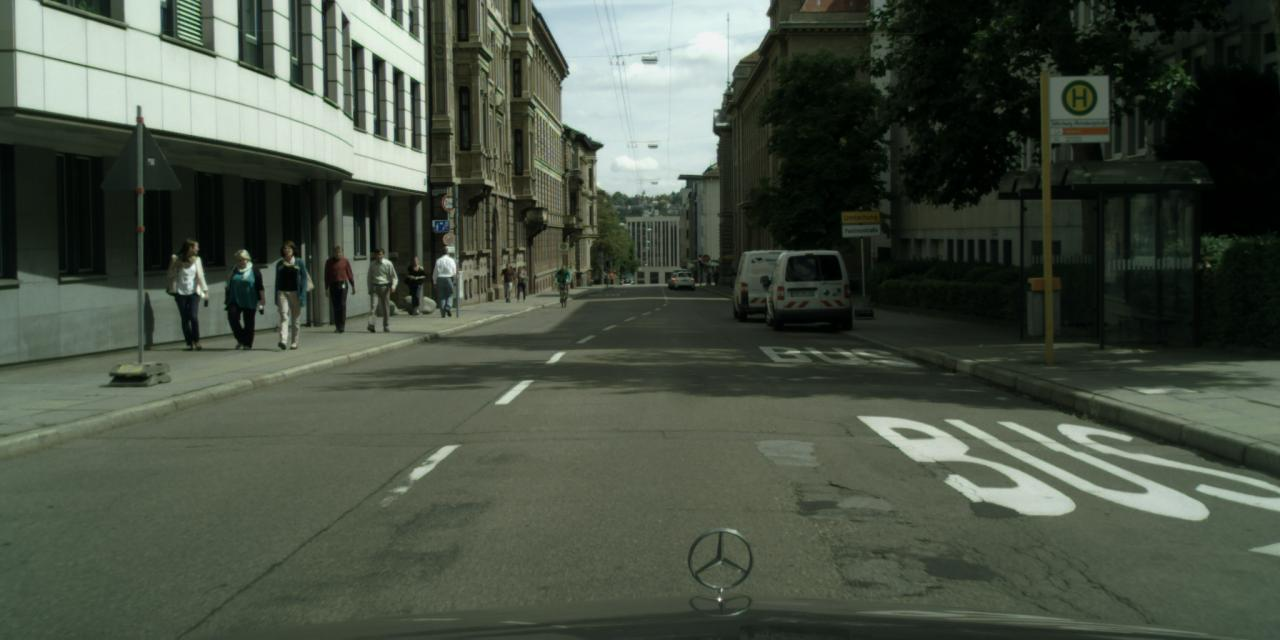ped: (170, 238, 214, 348), (266, 240, 310, 348), (223, 249, 263, 348), (320, 245, 356, 332), (362, 248, 397, 332), (431, 246, 460, 316), (404, 256, 427, 314), (499, 262, 515, 302), (513, 265, 528, 301), (556, 265, 570, 299), (705, 269, 711, 285), (713, 271, 718, 285), (609, 272, 614, 282)
